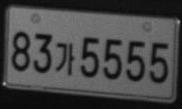3: (33, 32, 52, 74)
5: (125, 40, 145, 82), (149, 41, 169, 83), (102, 38, 122, 79), (80, 37, 99, 78)
8: (10, 30, 31, 71)
가: (55, 42, 75, 75)
